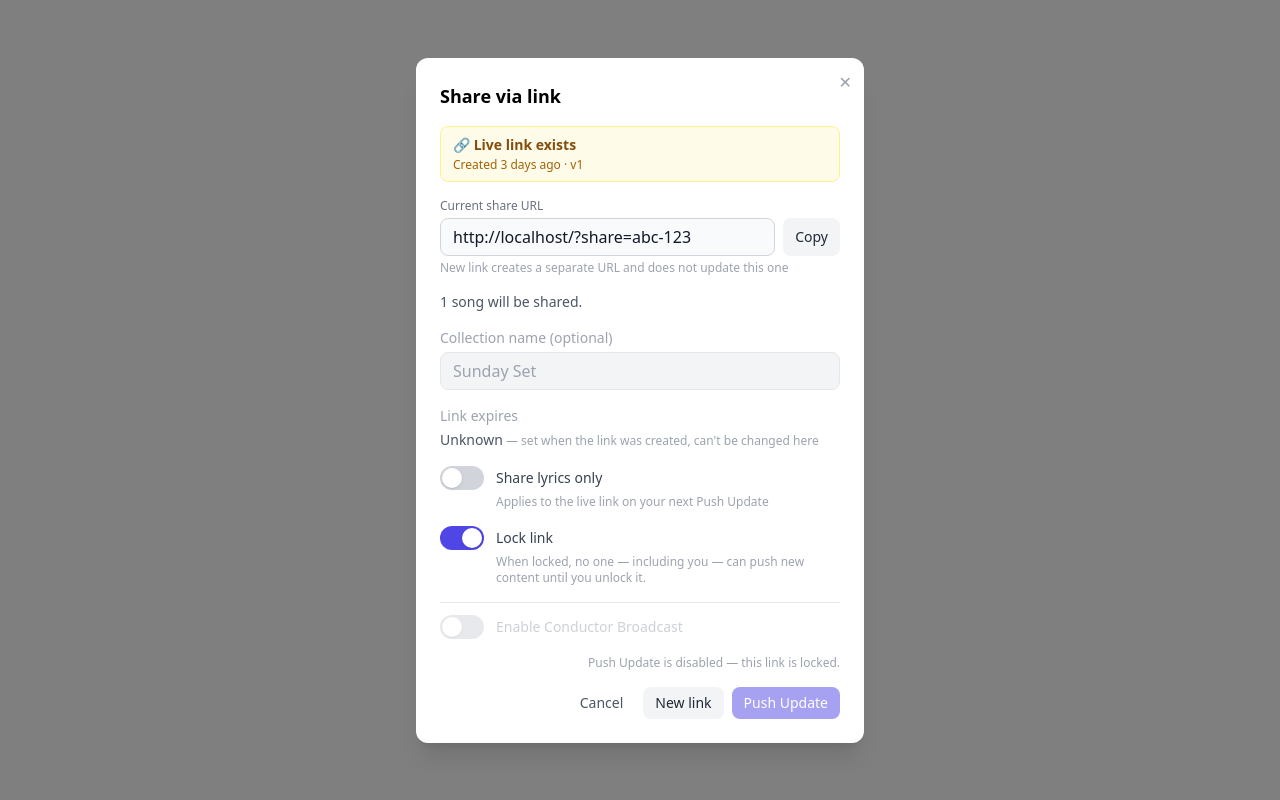
Test: ShareModal — update mode › unlocking with the wrong PIN shows an inline error and keeps the link locked
Click the switch labelled "Lock link" at point(462, 538), box [440, 526, 840, 550]
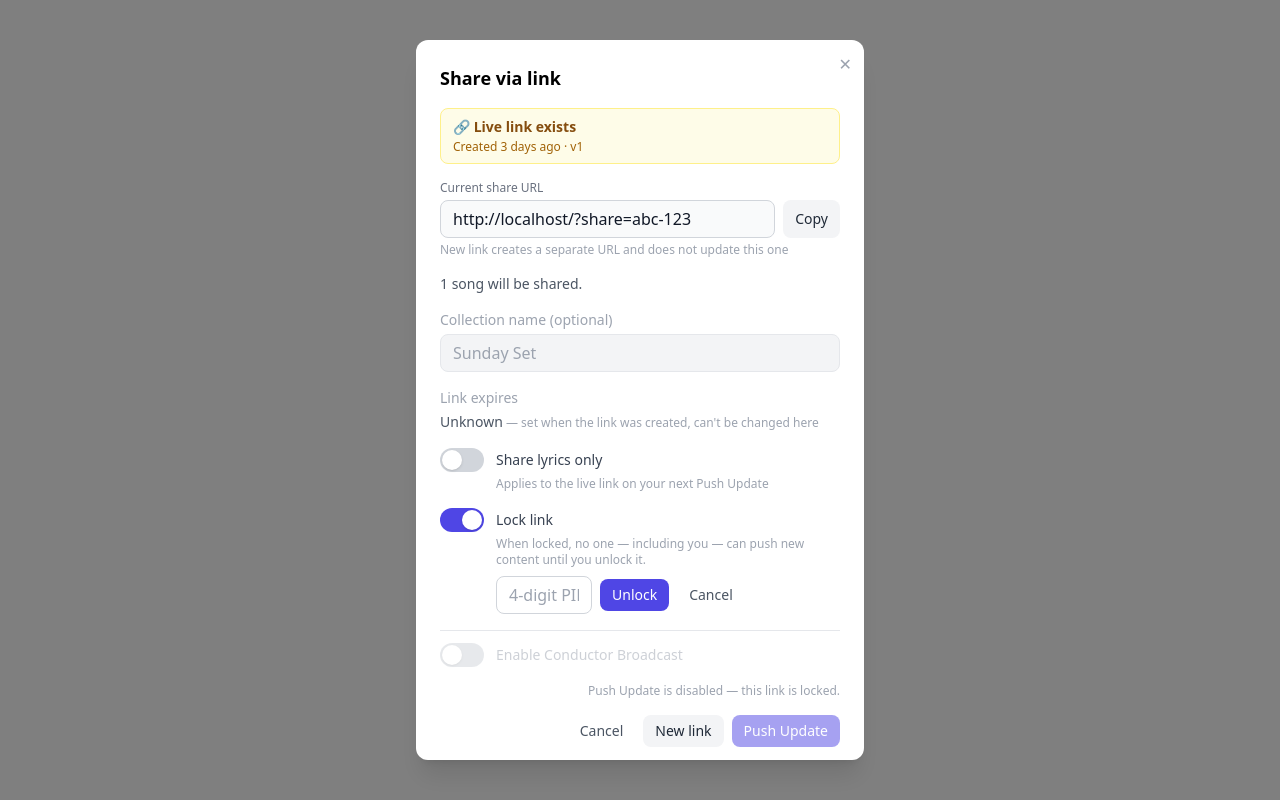
Type "9999" into the field labelled "PIN" at point(544, 595), box [496, 576, 592, 614]
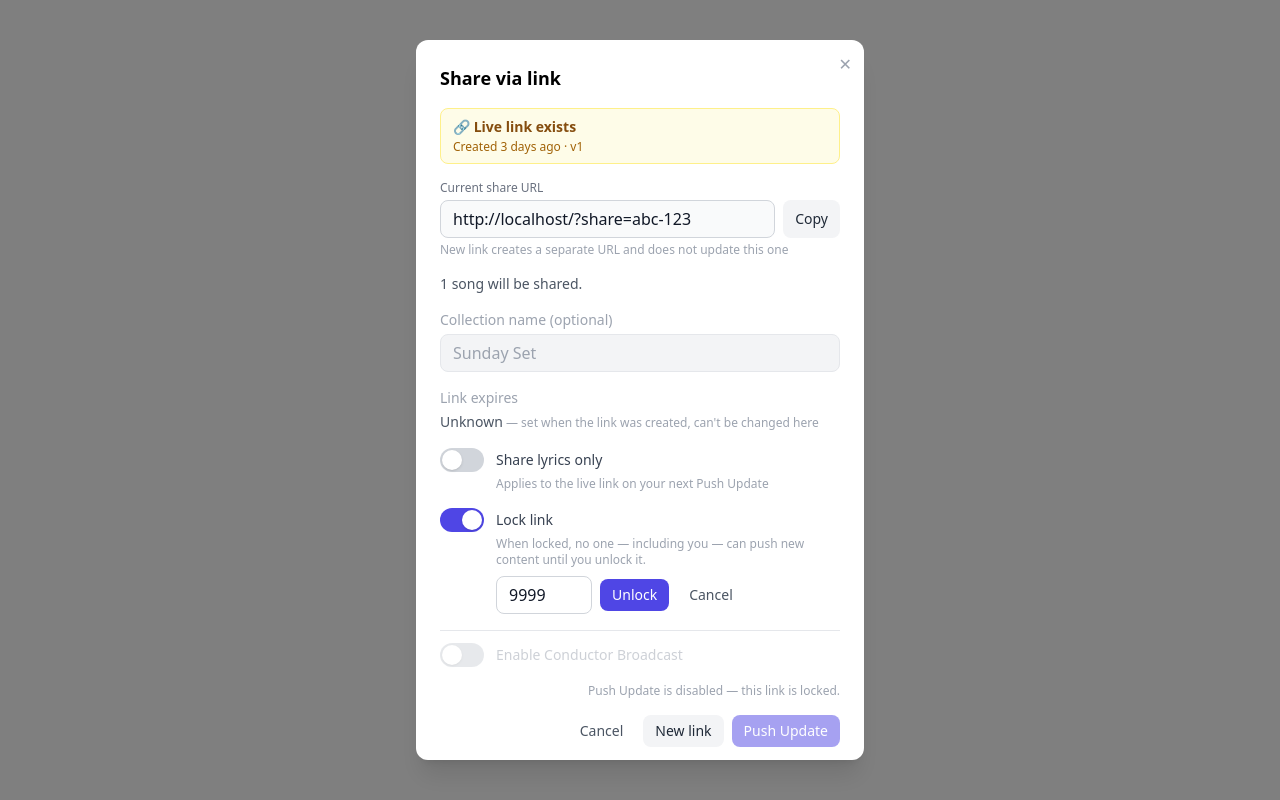
Click the button "Unlock" at point(635, 595), box [600, 579, 669, 611]
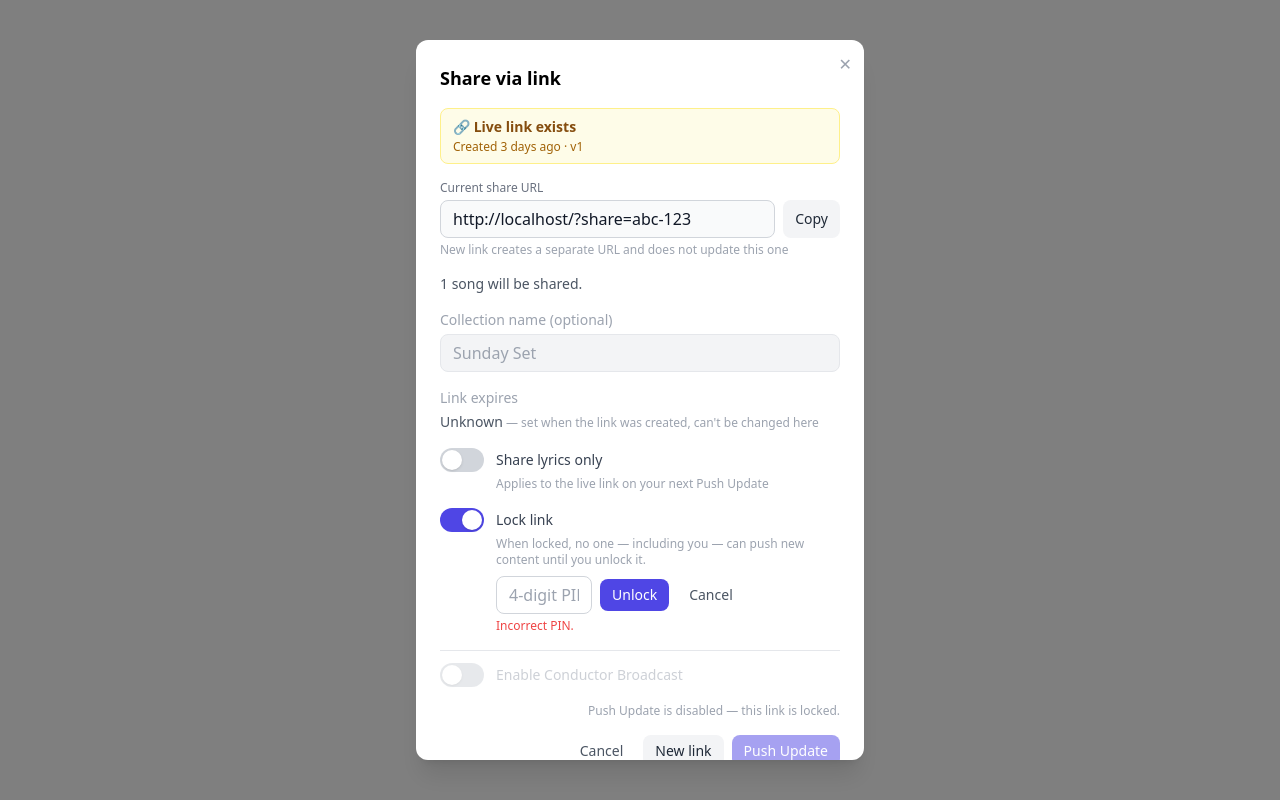
Now the field labelled "PIN" is shown, box [496, 576, 592, 614]
Now the text "Incorrect PIN." is shown, box [496, 617, 574, 634]
